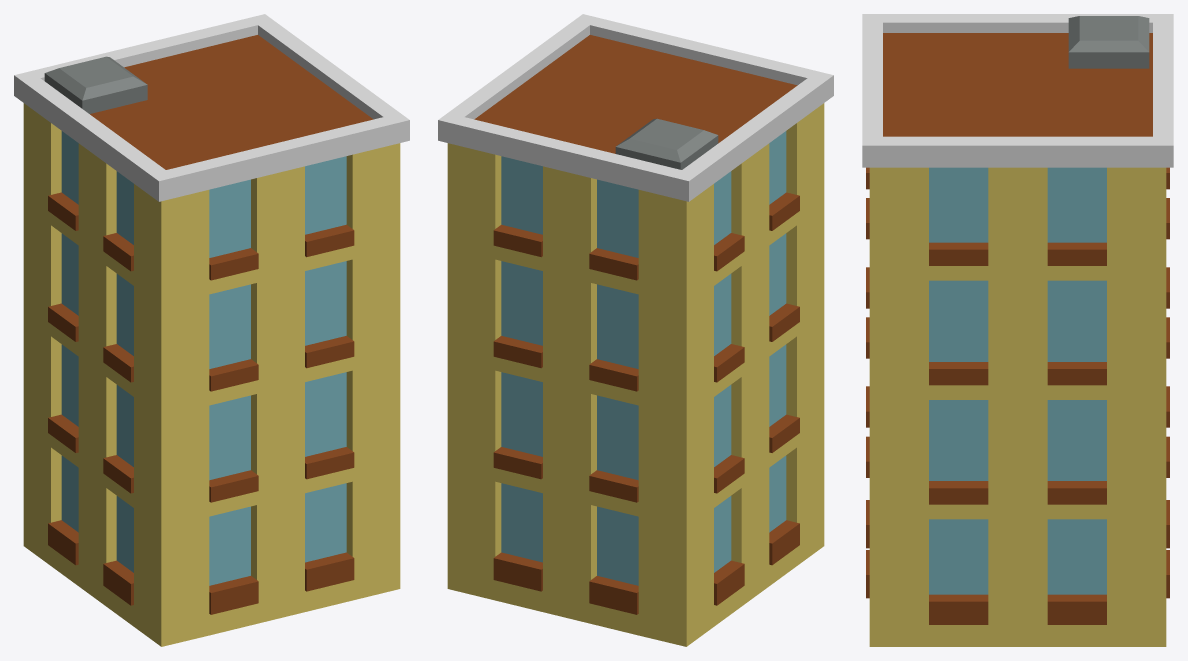
File: buildingA.fbx
3 views of the same model, side by side, from view 1: azimuth 30°, elevation 25°; view 2: azimuth 150°, elevation 25°; view 3: azimuth 270°, elevation 25° (orthographic). The views are drawn at different scales.
Visible parts, largest first — view 1: Building1; view 2: Building1; view 3: Building1.
Boxes of the visible parts, <box> form: Building1: <box>14,14,409,646</box>; Building1: <box>438,14,833,646</box>; Building1: <box>862,14,1173,646</box>.
Bounding box in the file's own units: 840 × 1542 × 840.
